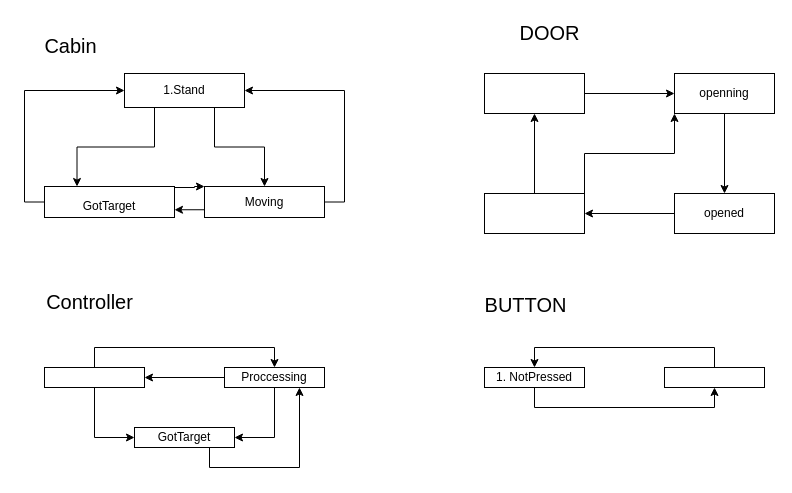
Image size: 792x493. Some labels were removed from this diagram. Each missing label, with the centre of its shape:
1. closed: the point at 534,93
1. Waiting: the point at 94,377
closing: the point at 534,213
pressed: the point at 714,377
